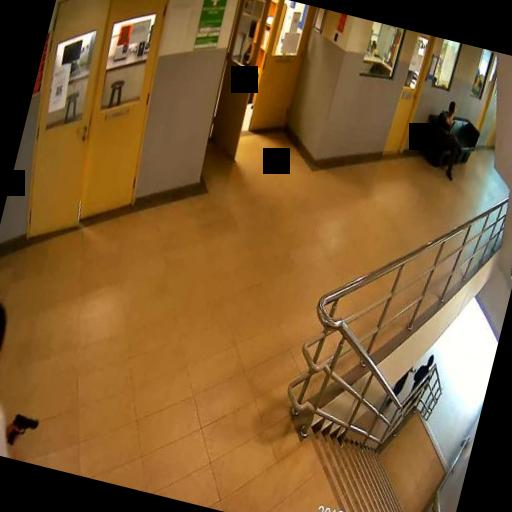Handgun: (6, 411, 38, 448)
